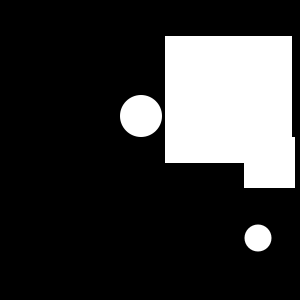circle: (165, 36, 292, 163), (244, 137, 295, 188)
rectangle: (120, 95, 162, 137), (244, 224, 272, 252), (244, 118, 264, 140)
